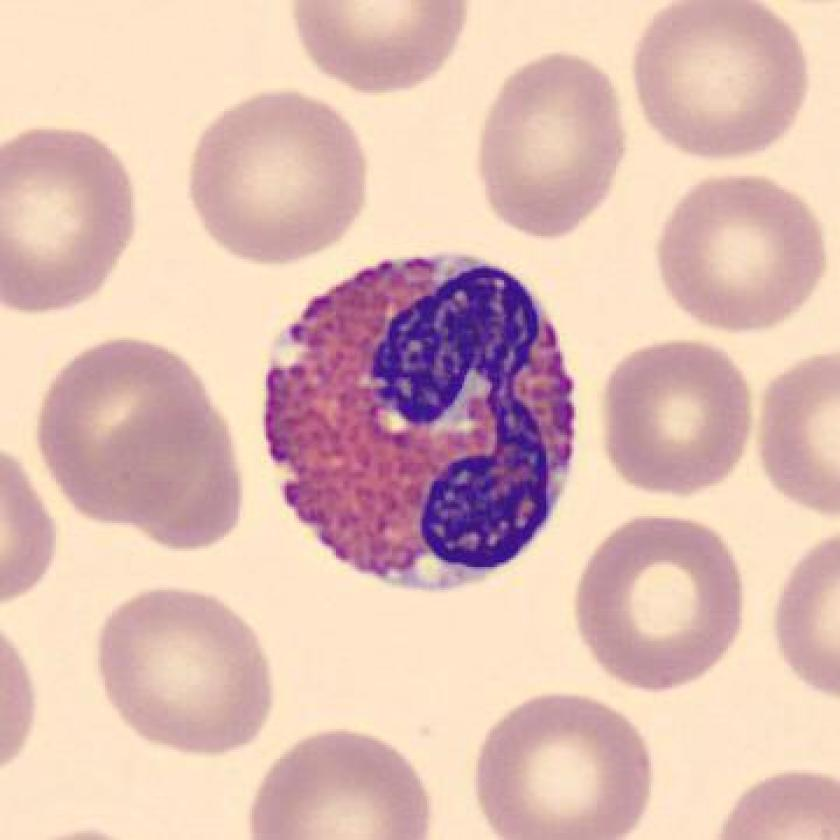eosinophil: (253, 239, 589, 603)
